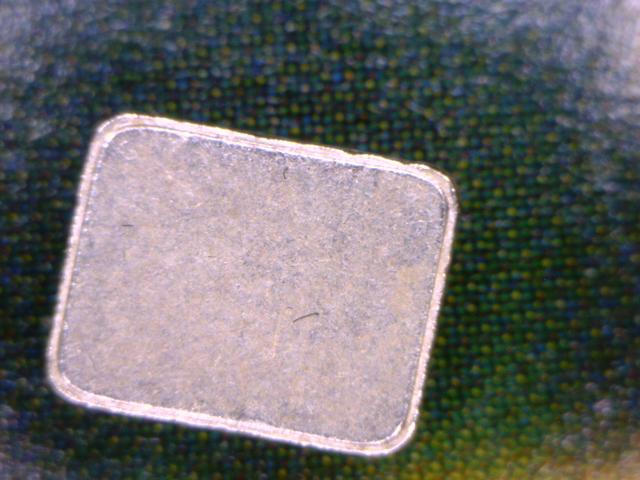nok: (44, 111, 444, 457)
